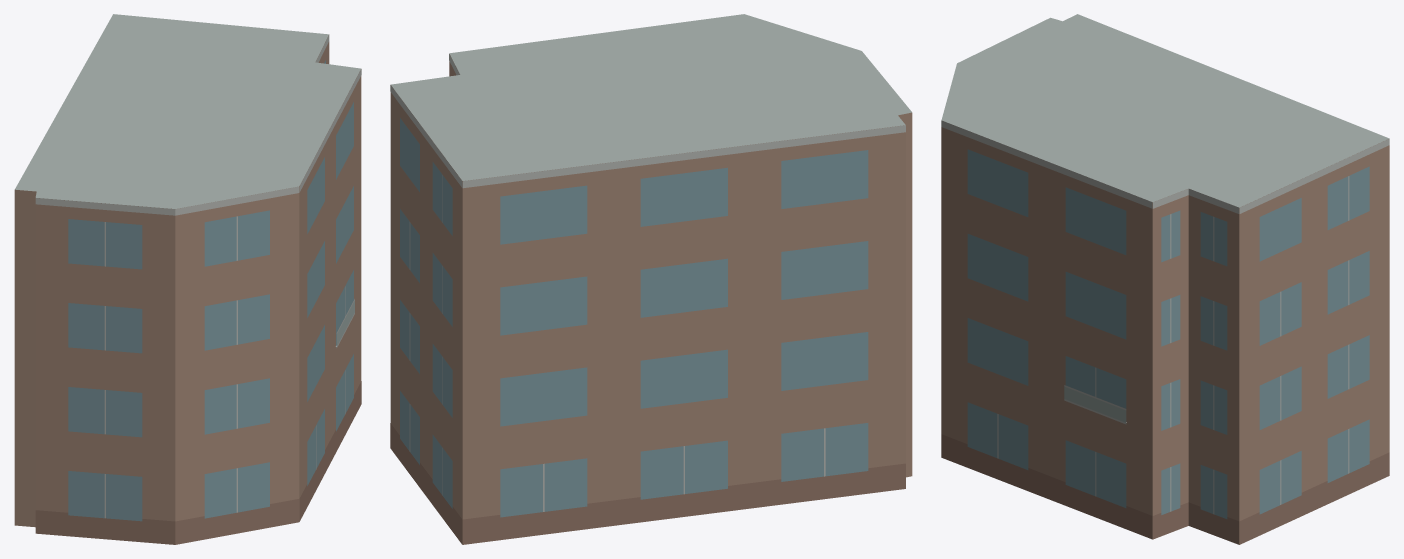
The model's file is survey-upis-32875433.glb.
3 renders of one model, left to right at view 1: azimuth 30°, elevation 25°; view 2: azimuth 150°, elevation 25°; view 3: azimuth 270°, elevation 25°, orthographic. The views are drawn at different scales.
Parts seen in each view (by area): view 1: survey-upis-32875433.tmp; view 2: survey-upis-32875433.tmp; view 3: survey-upis-32875433.tmp.
Boxes of the visible parts, left/top/right/bottom form: survey-upis-32875433.tmp: left=14, top=14, right=361, bottom=544; survey-upis-32875433.tmp: left=390, top=14, right=912, bottom=544; survey-upis-32875433.tmp: left=941, top=14, right=1389, bottom=544.
Size of the model in its own units: 15.28 by 12.4 by 14.94.
